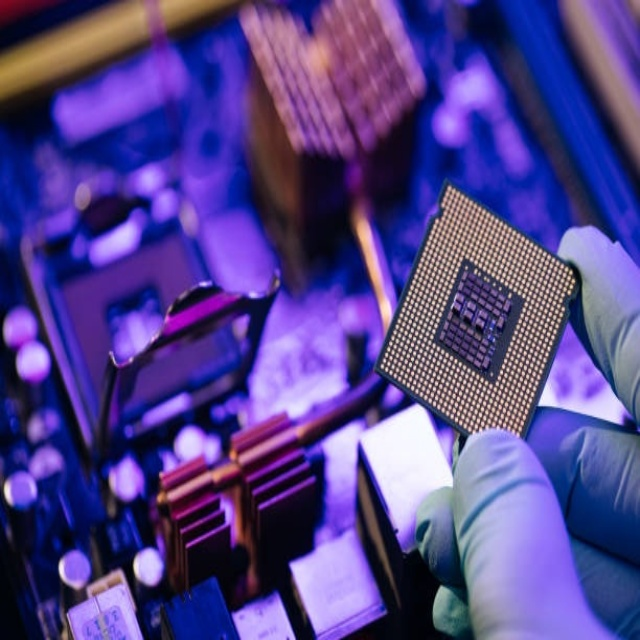Guantes: (410, 216, 633, 632)
